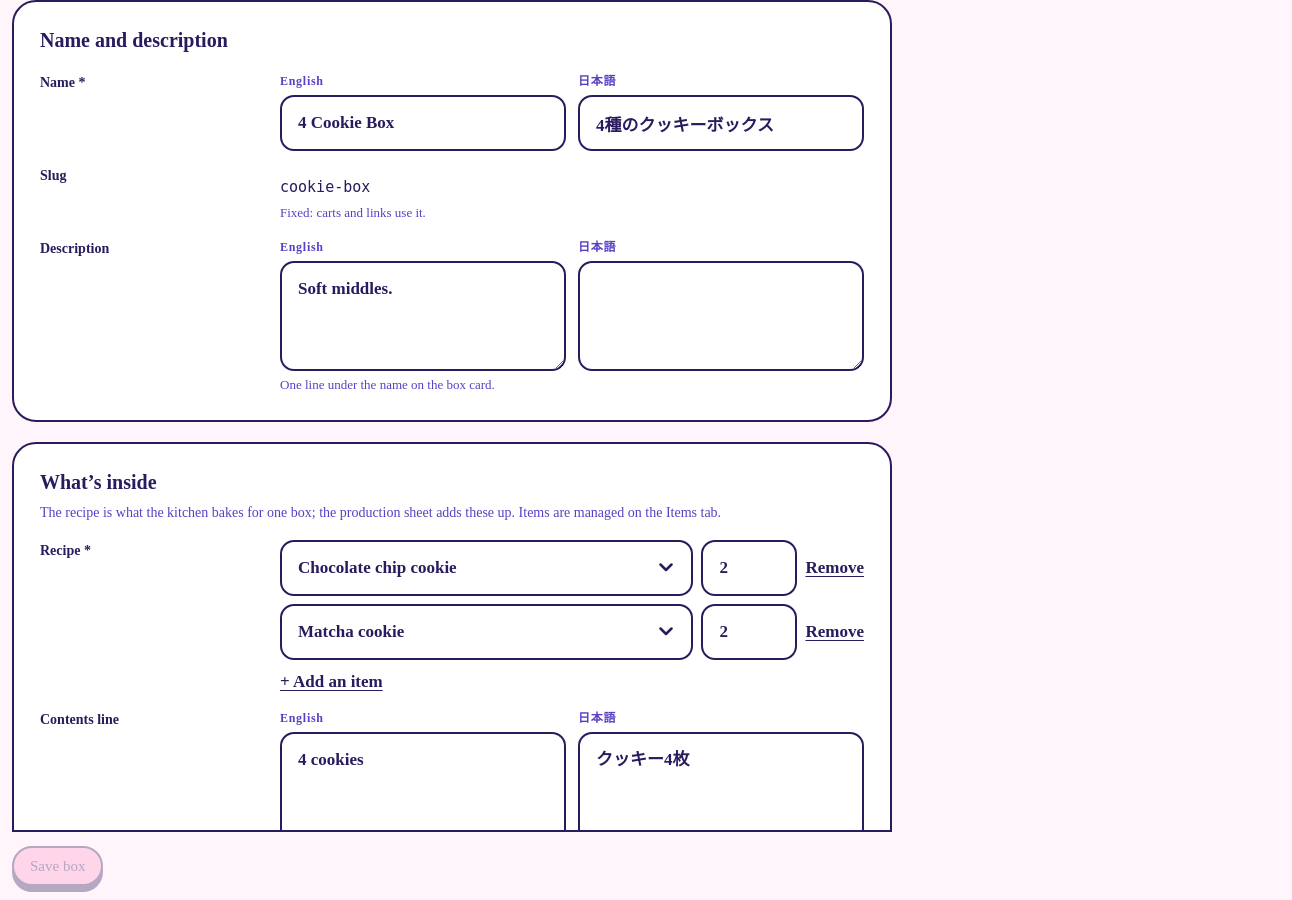
Test: BoxForm › marks, describes and focuses a recipe quantity the server turned down, not the item beside it
Replace the text in the field named "Quantity of item 1" with "0": point(750, 568) [702,540,798,596]
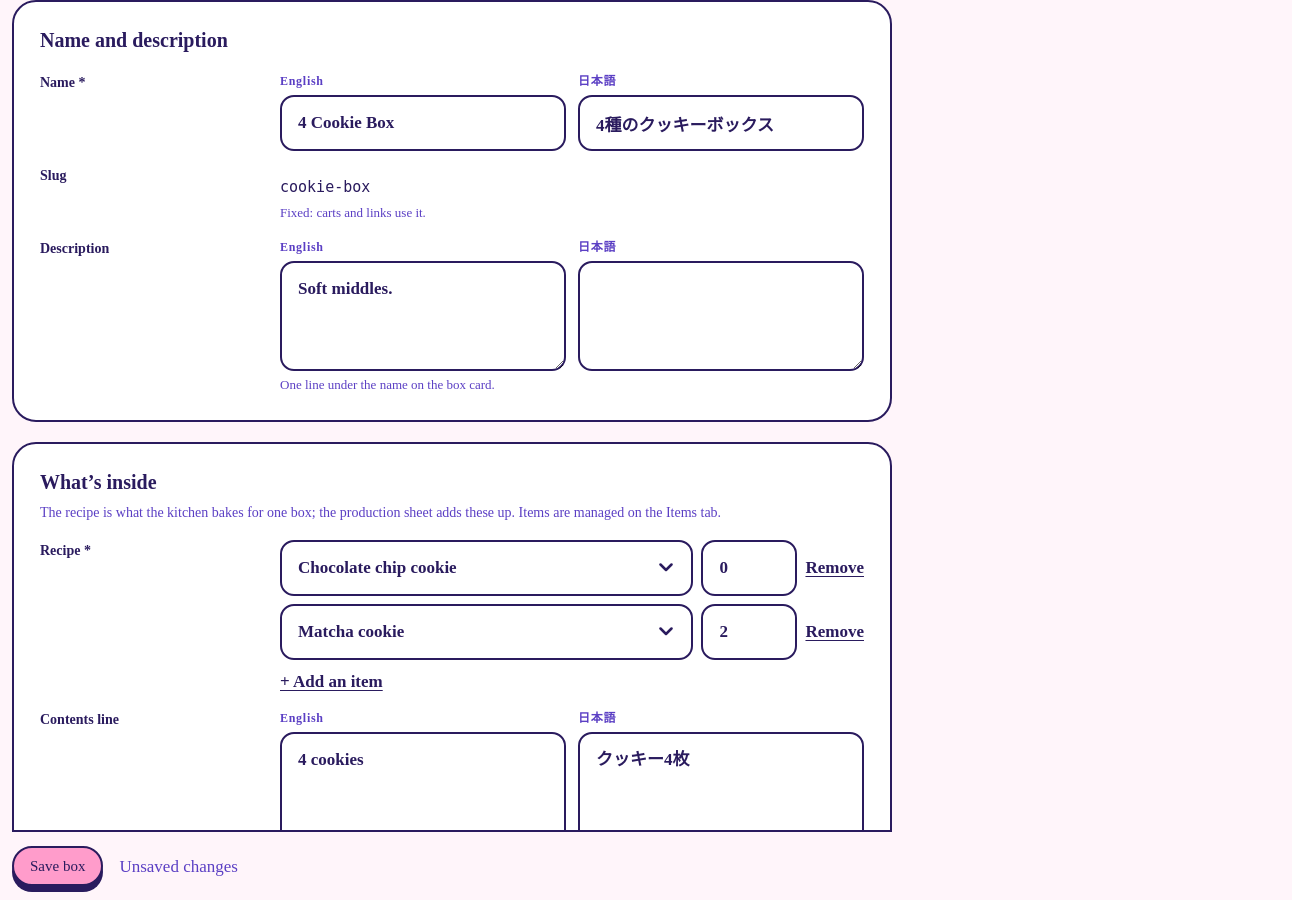
Click the button "Save box": point(58, 866) [12,846,103,886]
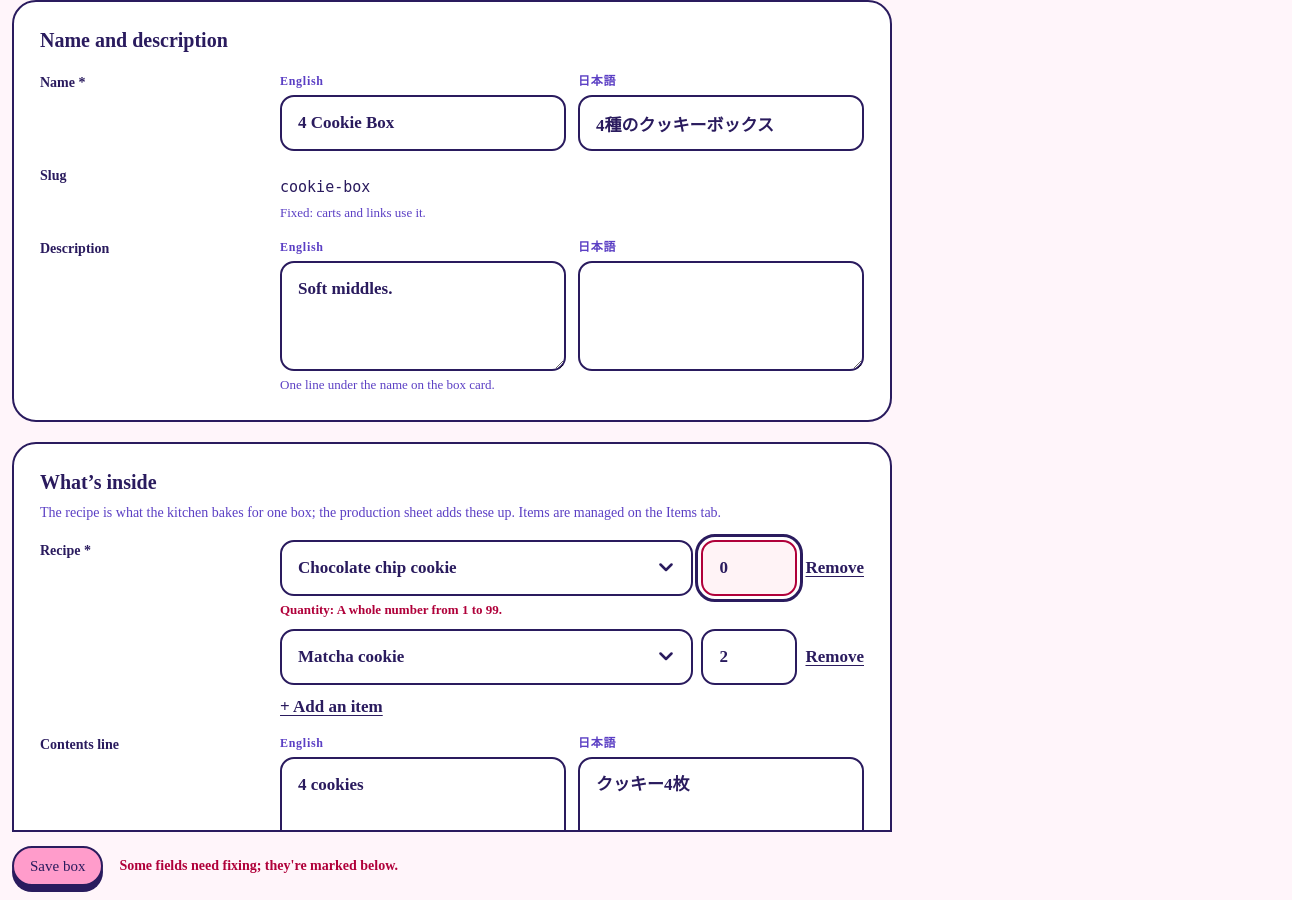
Result: the text "Quantity: A whole number from 1 to 99." is shown at [280,602,502,617]
